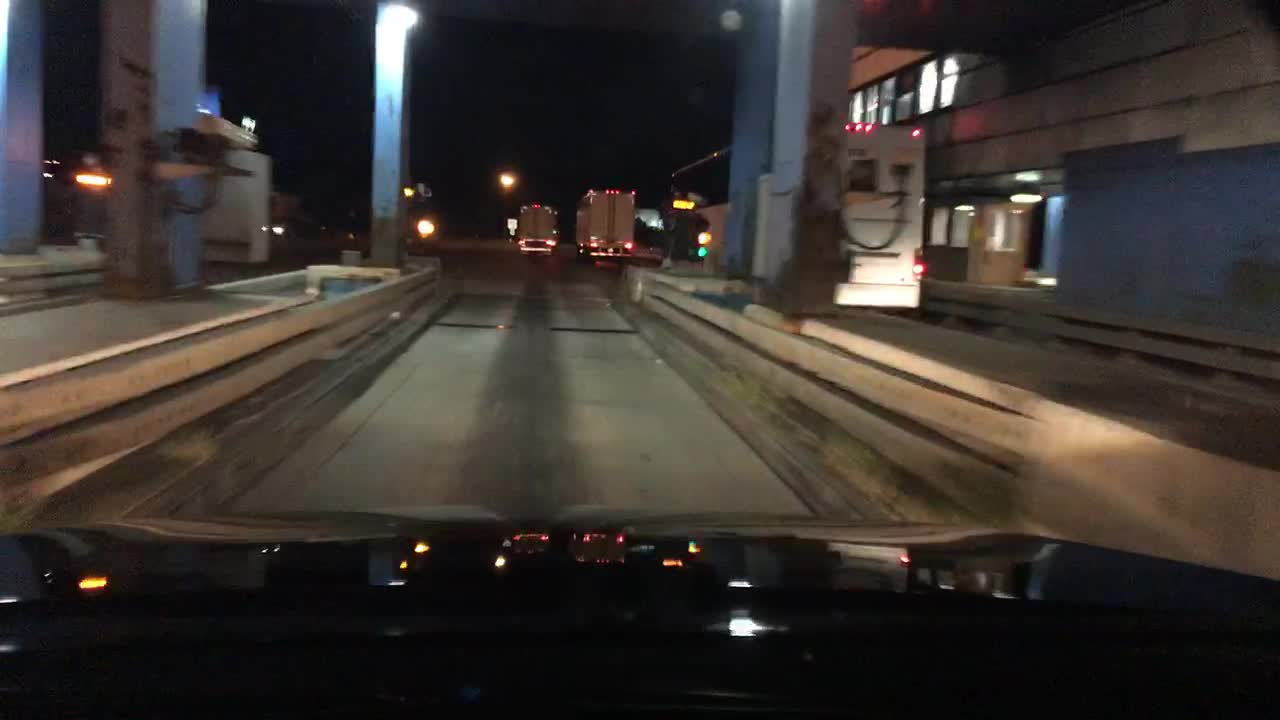car: (266, 215, 375, 265), (407, 215, 438, 254)
traffic sign: (507, 218, 517, 237)
truck: (580, 189, 636, 270), (518, 207, 557, 257)
